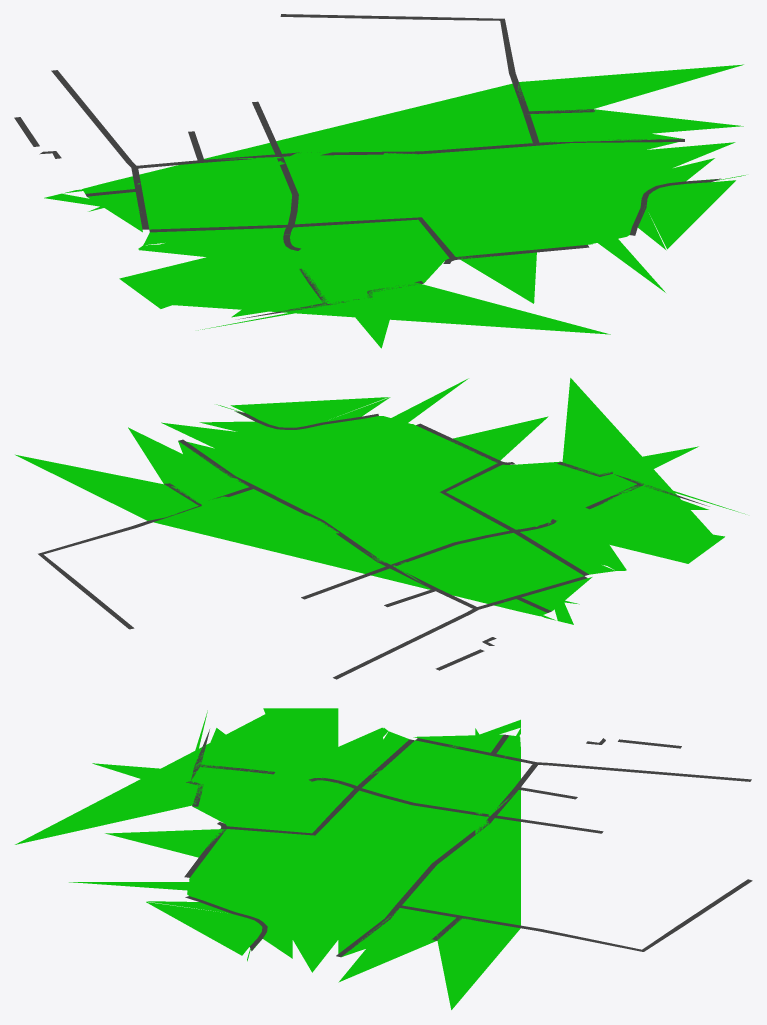
3 views of the same model, one above another, from view 1: azimuth 30°, elevation 25°; view 2: azimuth 150°, elevation 25°; view 3: azimuth 270°, elevation 25° (orthographic). The views are drawn at different scales.
Size of the model in its own units: 470 by 0 by 486.
